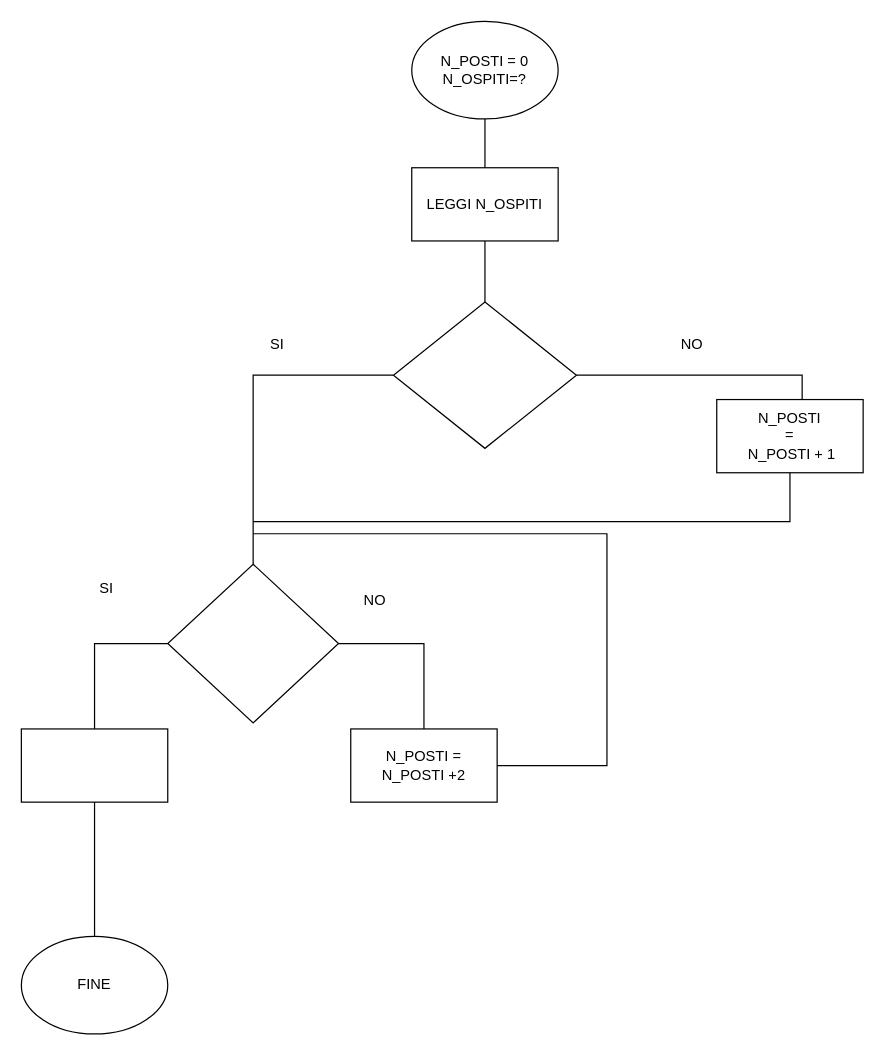
Image size: 885x1055. Some labels were removed from this diagram. The shapes that lost their labels are listed below. From the top down, each one's box as (x1, y1, x2, y2) in pixels, then its label:
(392, 301, 576, 448): N_OSPITI = PARI?
(167, 563, 339, 723): N_OSPITI = N_POSTI ?
(20, 728, 168, 802): BUON PRANZO!
